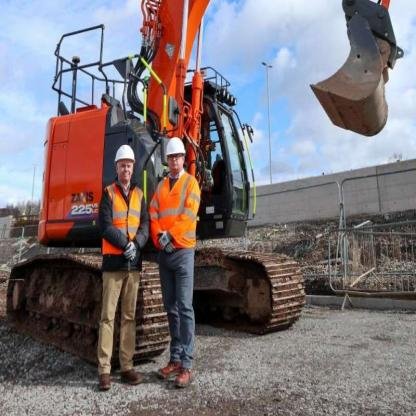person: (145, 108, 215, 394), (84, 136, 147, 395)
